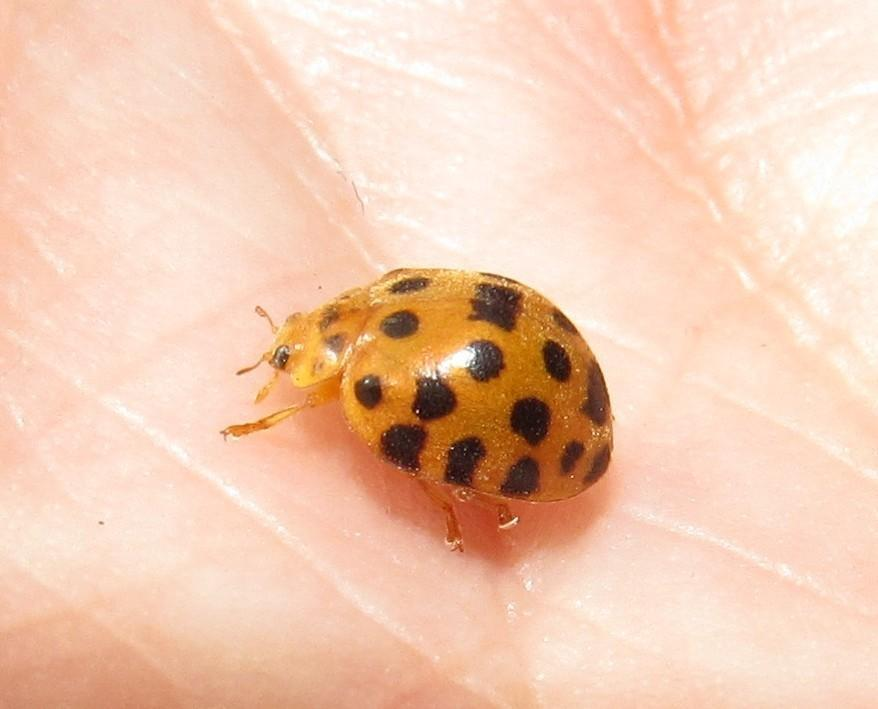ladybug: (213, 255, 623, 565)
